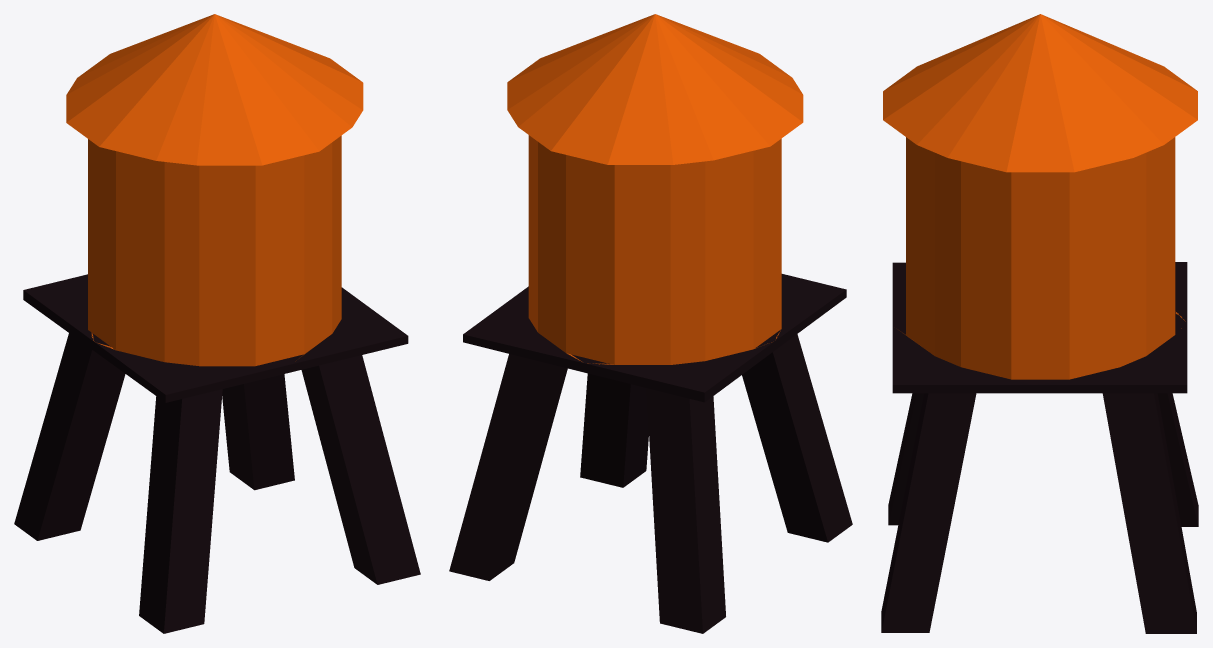
File: FBX_Water_Tank.FBX
3 views of the same model, side by side, from view 1: azimuth 30°, elevation 25°; view 2: azimuth 150°, elevation 25°; view 3: azimuth 270°, elevation 25° (orthographic). The views are drawn at different scales.
Parts seen in each view (by area): view 1: Water_Tank; view 2: Water_Tank; view 3: Water_Tank.
Boxes of the visible parts, bbox=[...] form: Water_Tank: bbox=[14, 14, 420, 633]; Water_Tank: bbox=[449, 14, 852, 633]; Water_Tank: bbox=[881, 14, 1198, 633].
Bounding box in the file's own units: 1.29 × 2.49 × 1.29.
